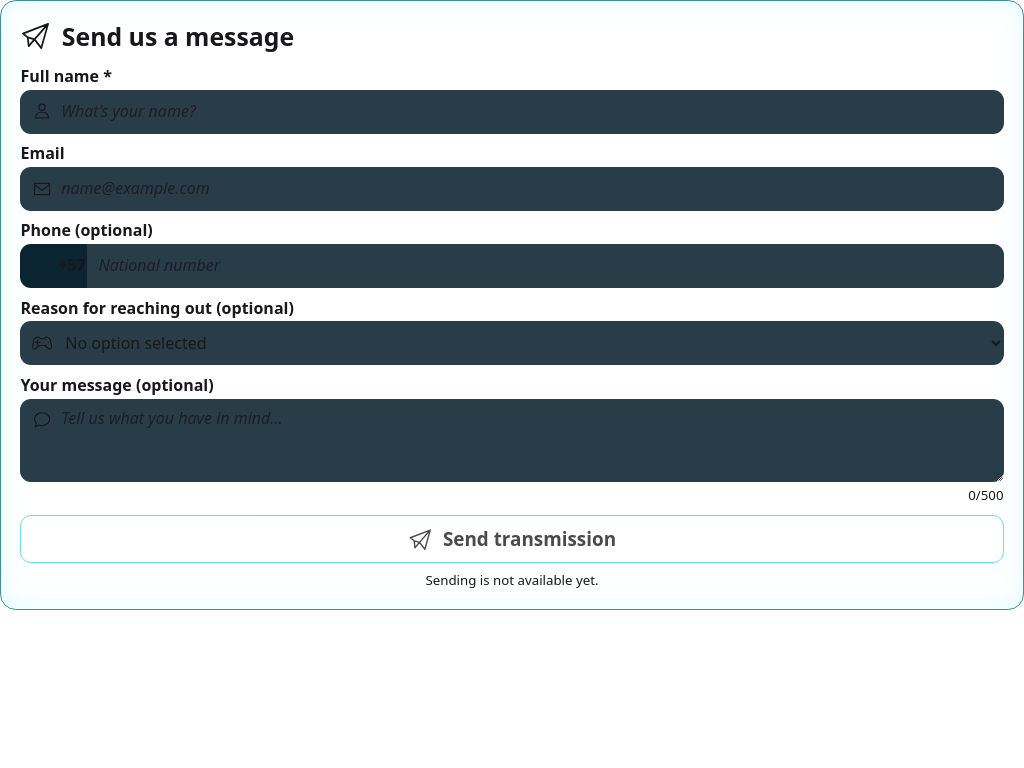
Test case: dismisses the country picker on outside interaction and preserves focus when tabbing away
Later steps or results of the test are not shown.
Click the button named "Colombia +57".
click(54, 266)  # box [20,244,87,288]
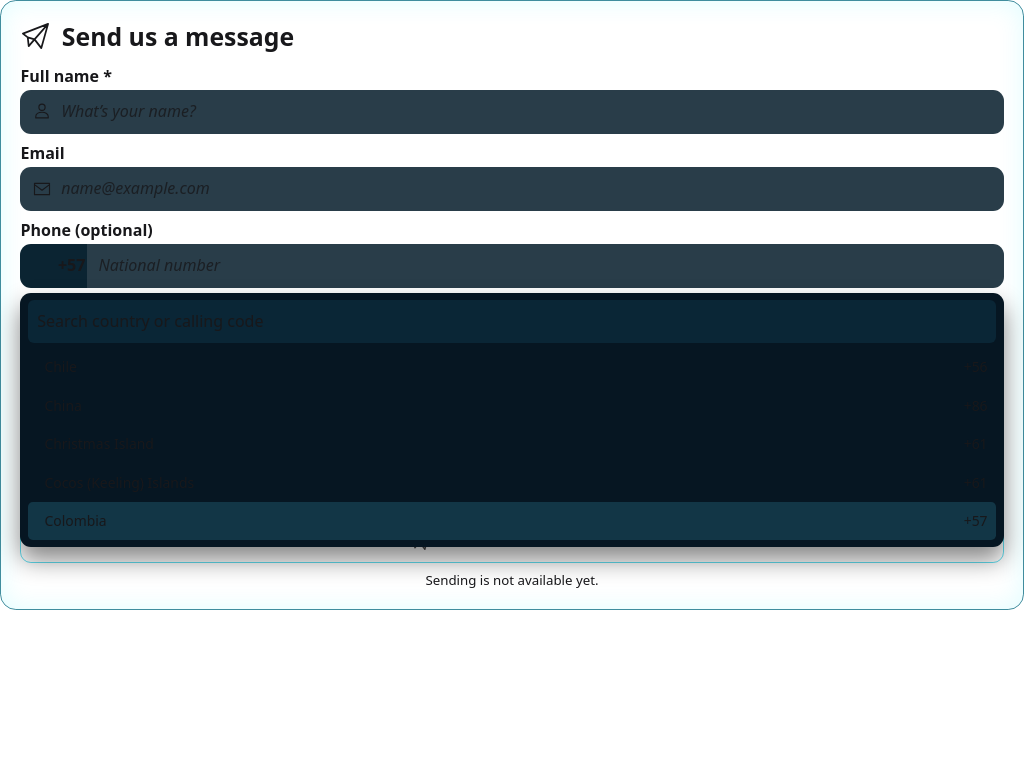
Press the mouse on the dropdown labelled "Search country or calling code" at (512, 321), box [28,300,996,342]
Press the mouse on the field labelled "Phone (optional)" at (545, 266), box [87,244,1004,288]
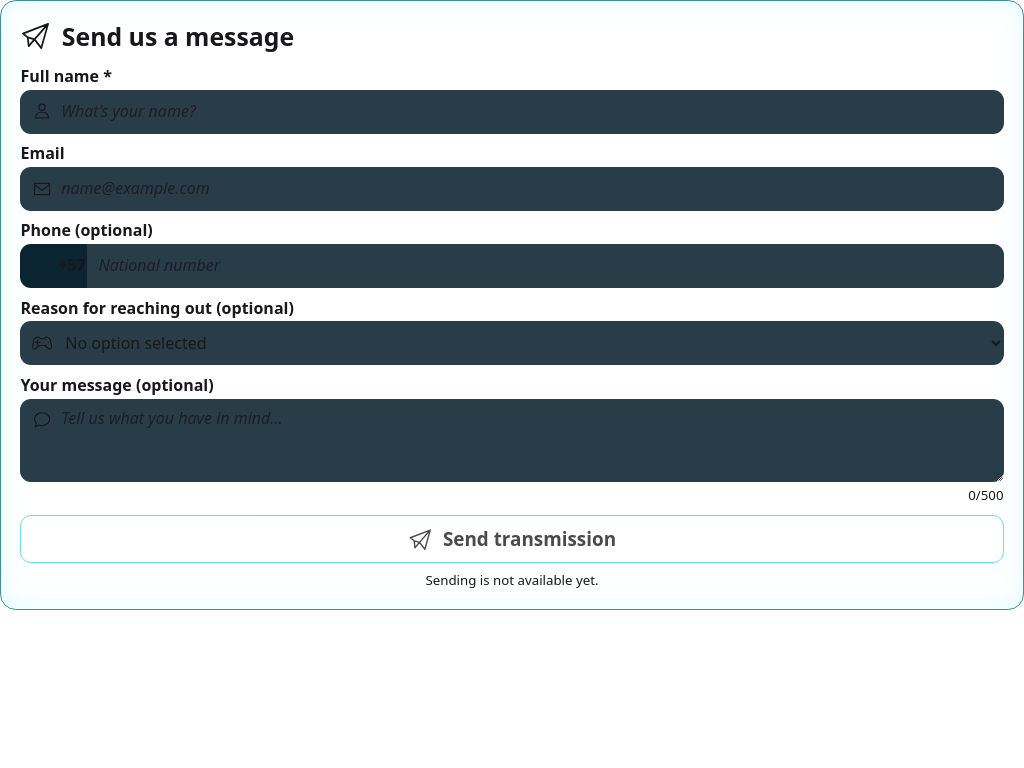
Now the list is gone
